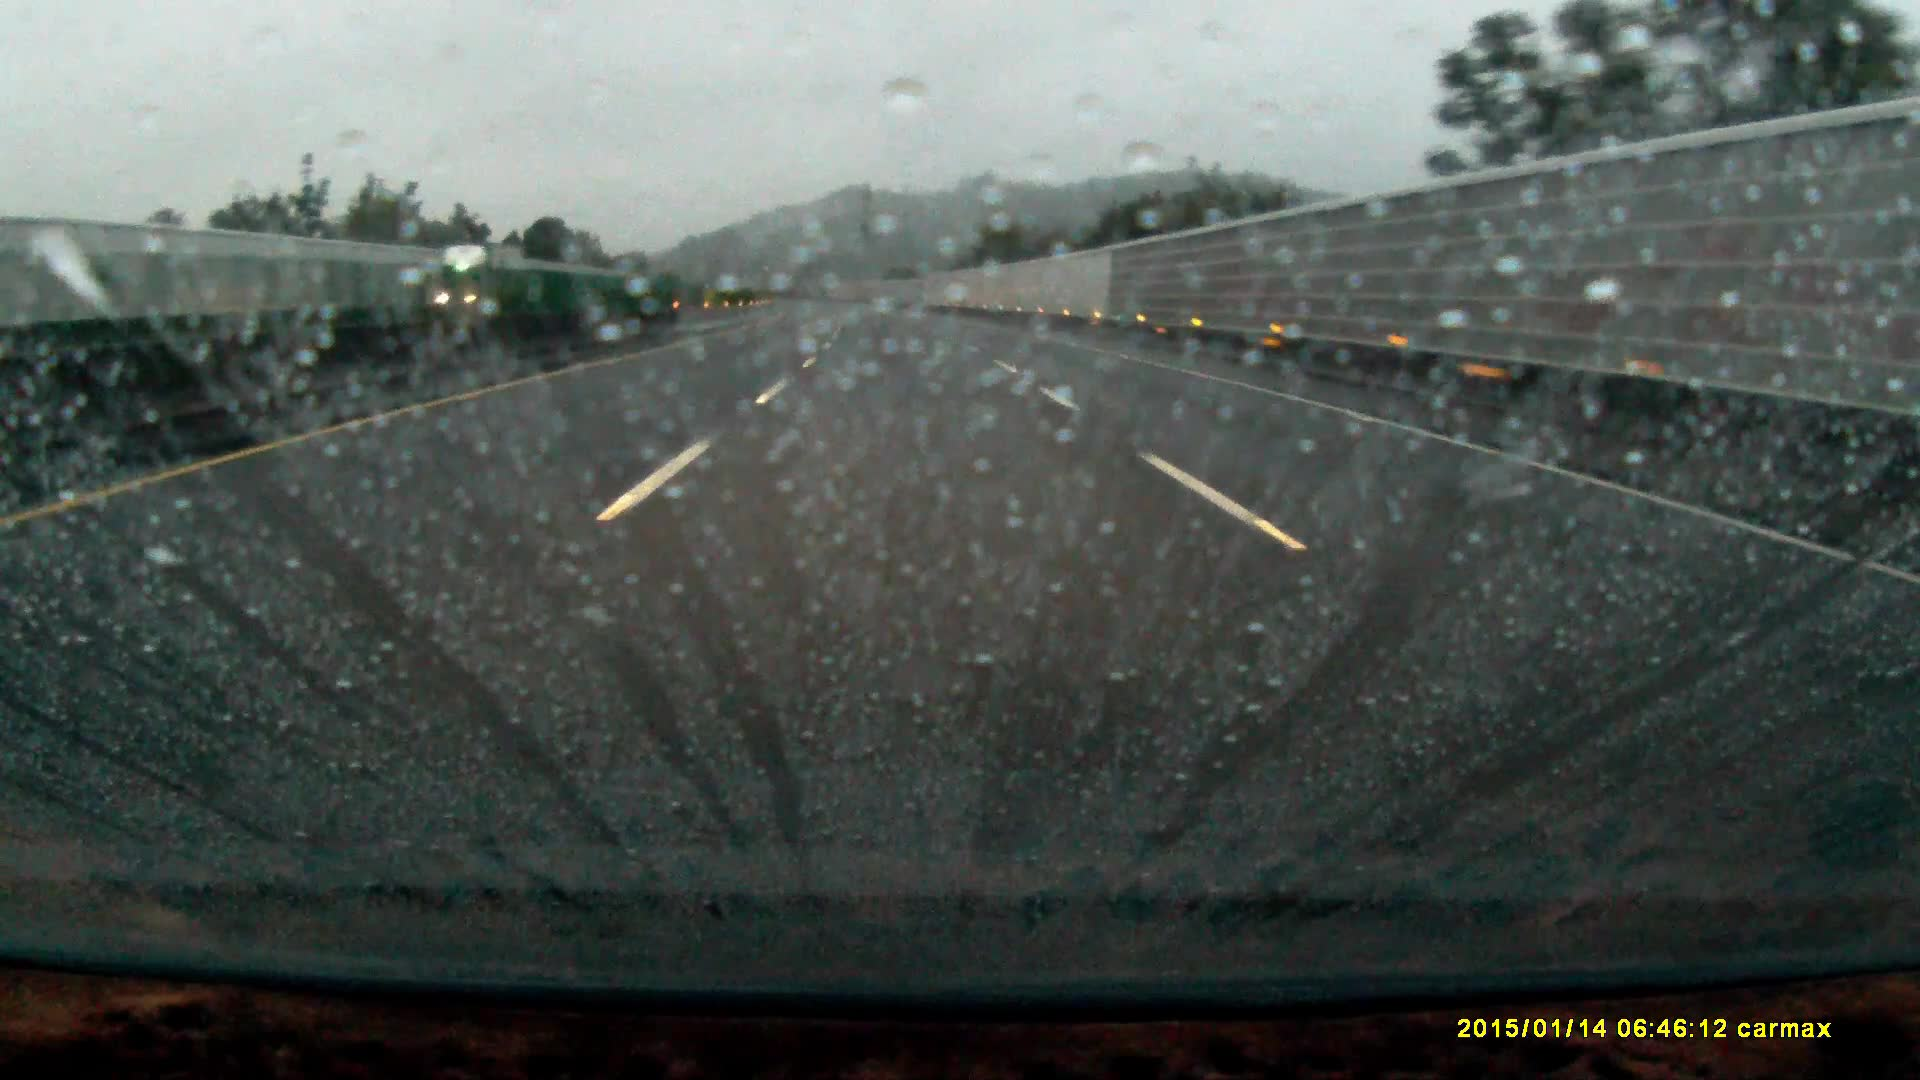vehicle: (438, 243, 525, 320)
